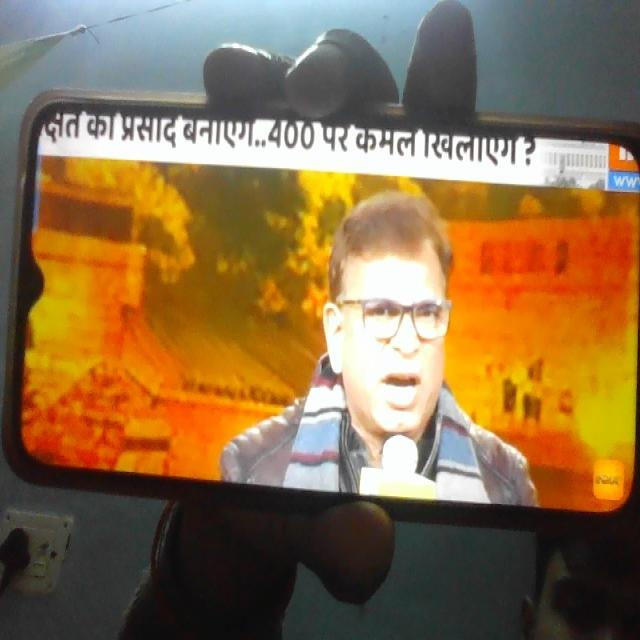fake: (321, 188, 463, 457)
